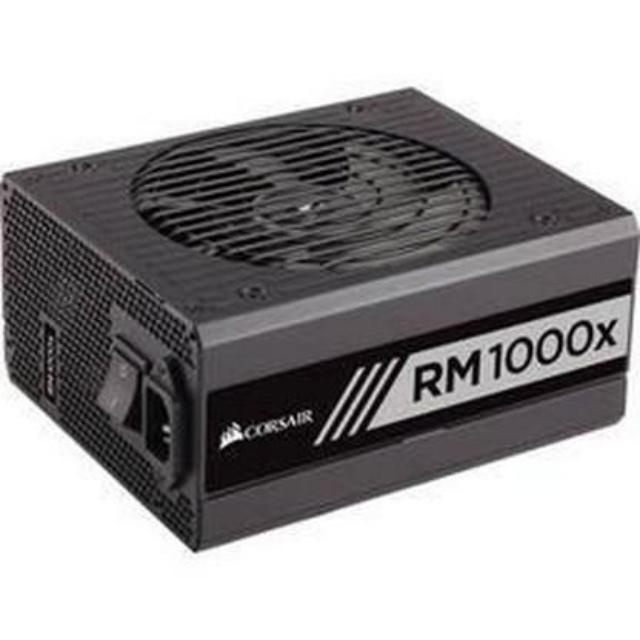PSU: (0, 94, 640, 552)
